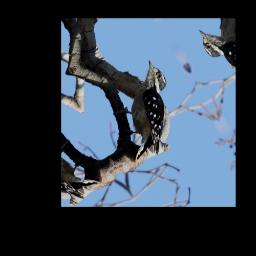Woodpecker: (94, 55, 198, 167)
